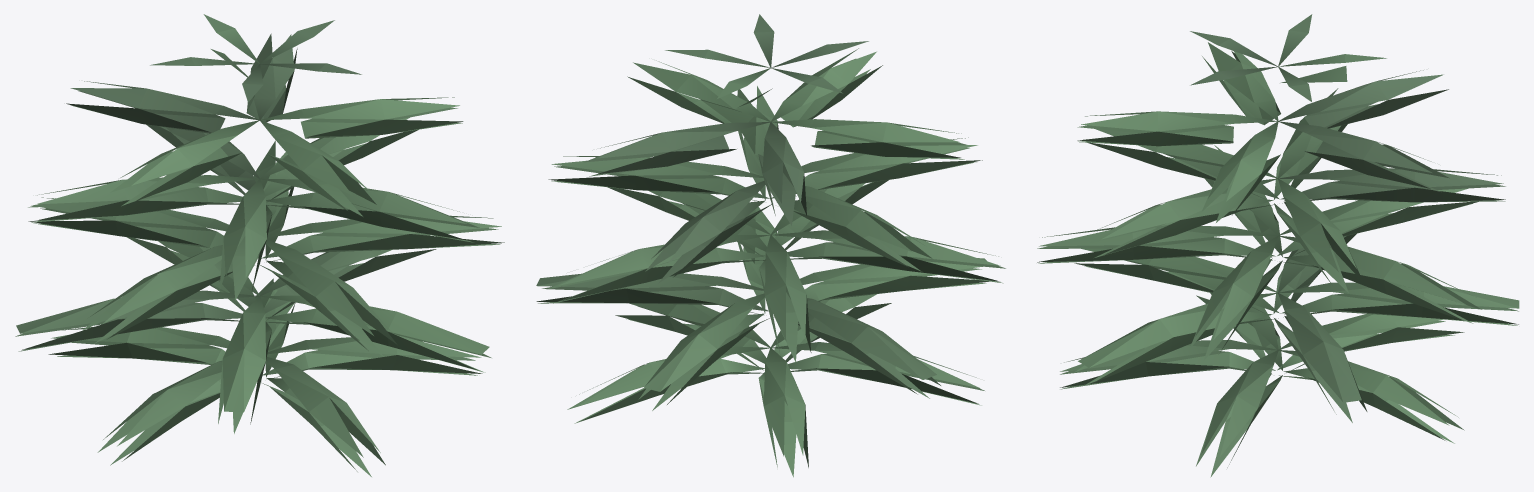
Rendered from araucaria.lod.glb.
3 views of the same model, side by side, from view 1: azimuth 30°, elevation 25°; view 2: azimuth 150°, elevation 25°; view 3: azimuth 270°, elevation 25° (orthographic). The views are drawn at different scales.
Parts seen in each view (by area): view 1: araucaria; view 2: araucaria; view 3: araucaria.
Part boxes in pixels (bbox=[...]): araucaria: bbox=[15, 14, 504, 476]; araucaria: bbox=[536, 14, 1005, 477]; araucaria: bbox=[1037, 14, 1519, 477].
Size of the model in its own units: 7.23 by 5.64 by 7.46.
